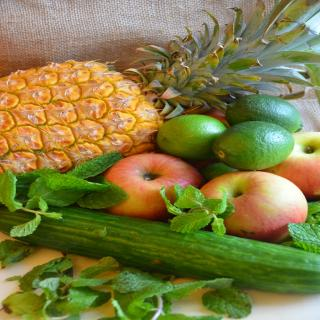Apple: (200, 168, 315, 242), (102, 154, 201, 222), (265, 130, 320, 202)
Lemon: (212, 120, 296, 170), (158, 115, 229, 159), (226, 94, 304, 132)
